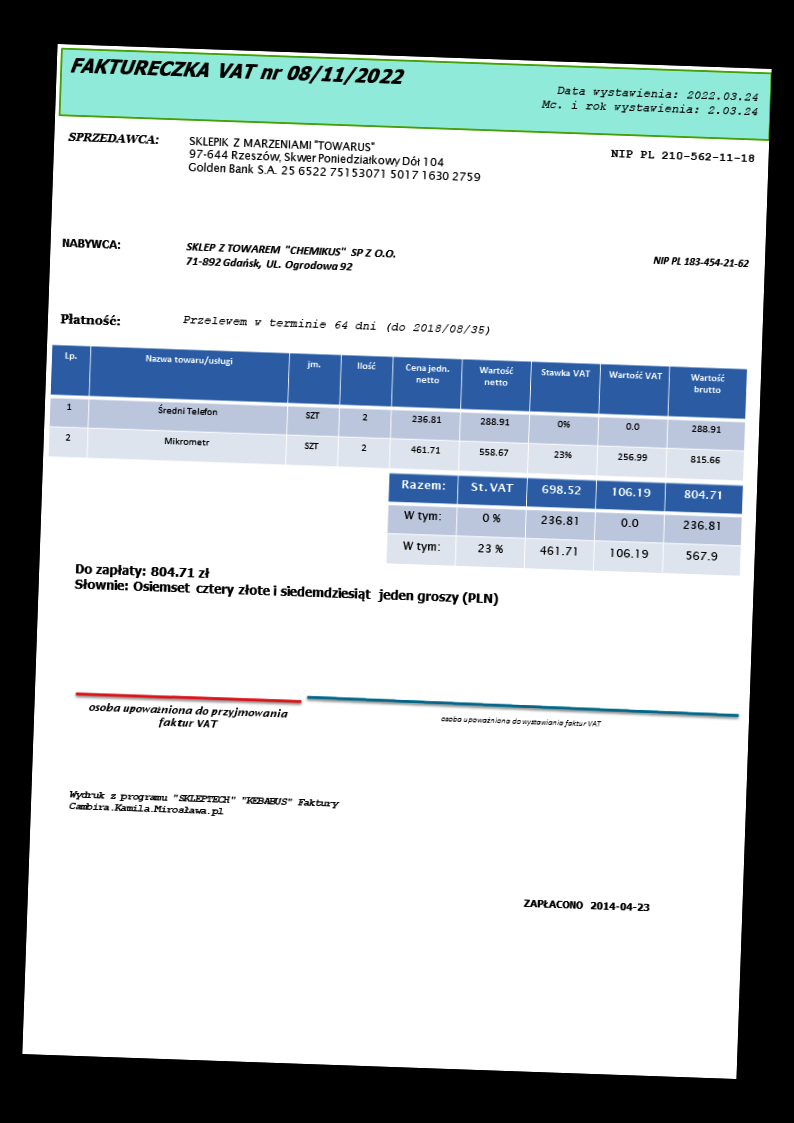Table: (47, 341, 748, 480), (384, 472, 745, 579)
TextBox: (71, 561, 502, 610), (185, 133, 484, 187), (66, 52, 406, 89), (66, 785, 340, 824), (539, 82, 761, 120), (183, 239, 395, 275), (180, 312, 491, 336), (85, 700, 290, 735), (437, 713, 605, 731), (607, 146, 756, 166), (521, 896, 653, 914), (65, 128, 160, 147), (650, 253, 750, 270), (58, 234, 122, 252), (59, 310, 121, 328)
